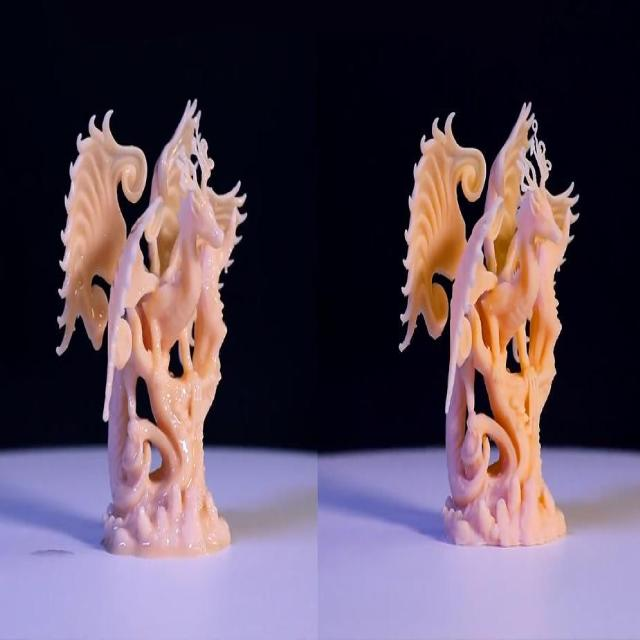Without deffect: (47, 77, 274, 587)
